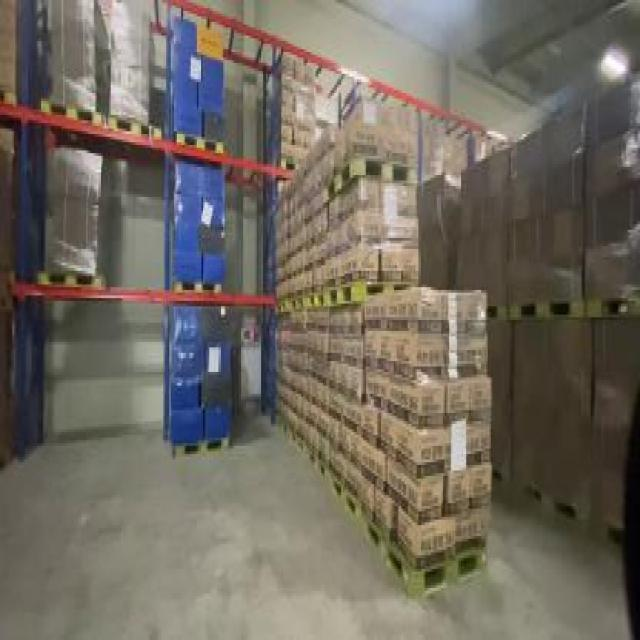box: (271, 118, 492, 588), (424, 79, 638, 550), (163, 3, 228, 470), (43, 2, 154, 148), (54, 140, 111, 296), (278, 49, 320, 175)
